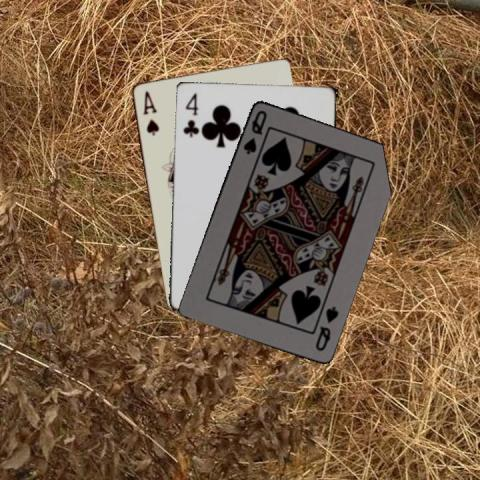4c: (180, 89, 199, 139)
As: (140, 88, 161, 137)
Qs: (312, 304, 340, 353), (240, 107, 268, 155)
